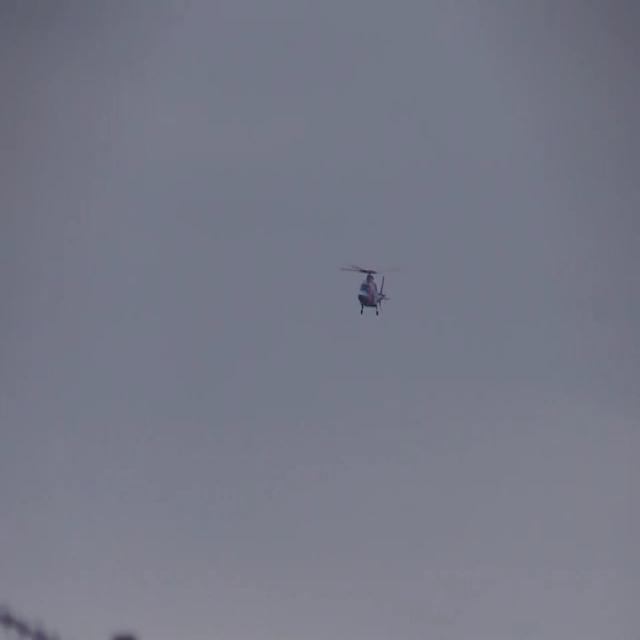Helicopter: (325, 247, 421, 325)
